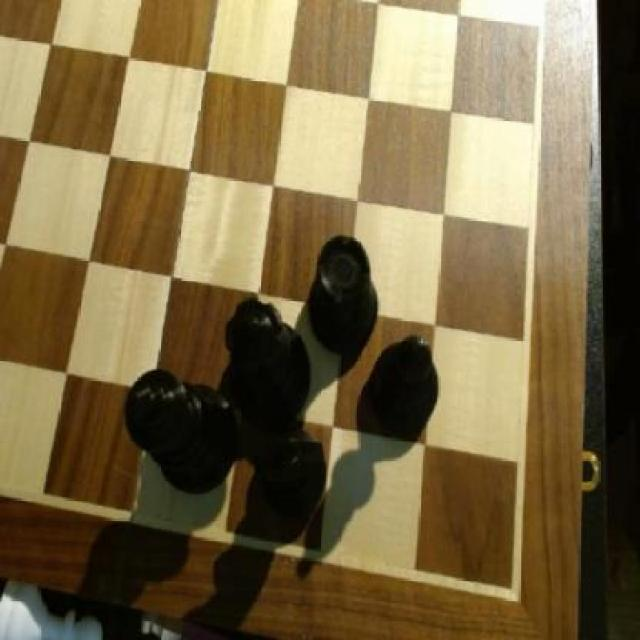bishop: (369, 326, 448, 434)
black-bishop: (122, 358, 240, 492)
black-king: (240, 406, 333, 531)
black-pawn: (221, 290, 314, 428)
black-queen: (308, 226, 385, 353)
